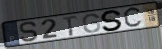2: (40, 18, 59, 41)
C: (122, 6, 144, 30)
G: (82, 13, 103, 34)
S: (100, 9, 124, 32), (19, 21, 41, 43)
T: (61, 14, 79, 37)
